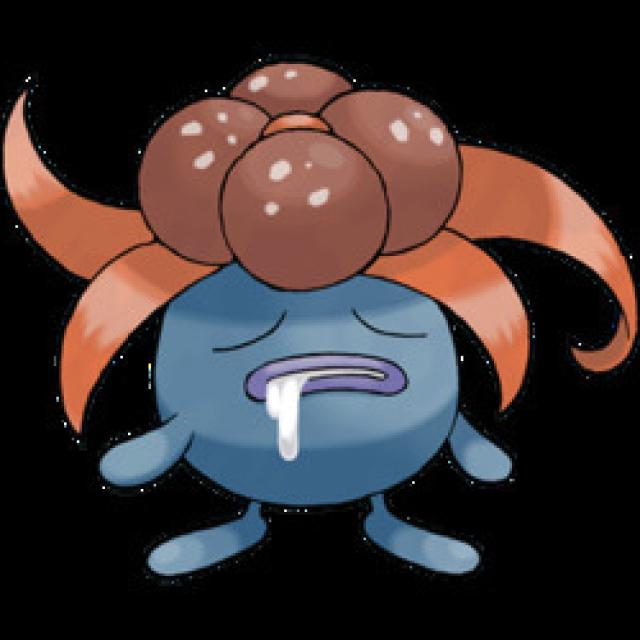Gloom: (83, 60, 505, 574)
